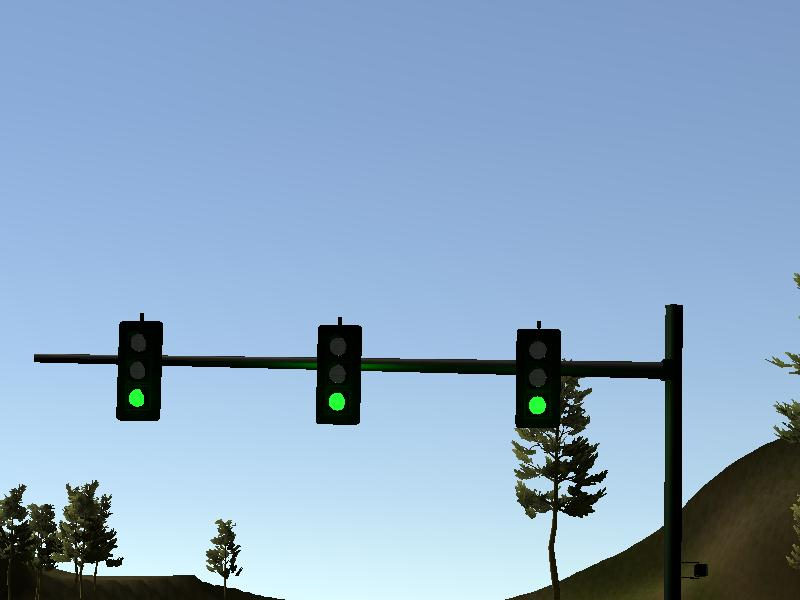green: (116, 320, 163, 423), (315, 324, 362, 427), (515, 327, 562, 430)
